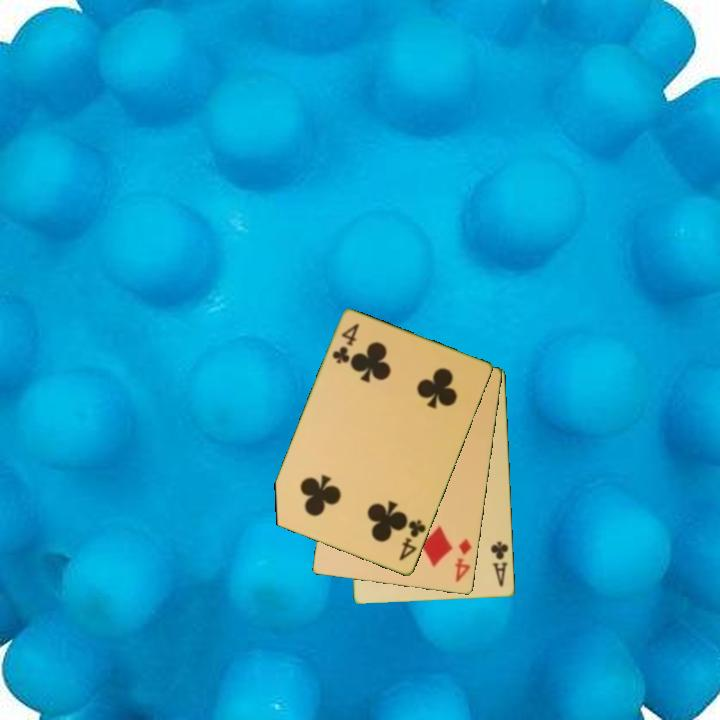4c: (396, 516, 429, 564), (329, 320, 362, 367)
4d: (452, 536, 475, 585)
Ac: (488, 538, 511, 589)
